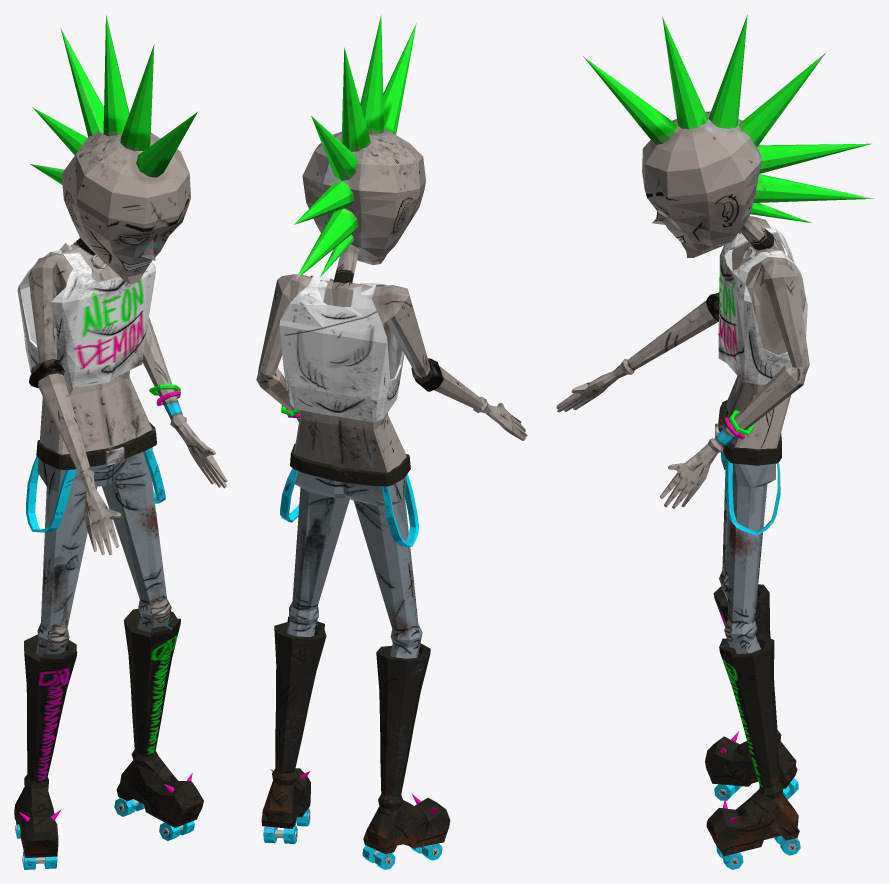
Rendered from punkAnimation_000003.obj.
3 views of the same model, side by side, from view 1: azimuth 30°, elevation 25°; view 2: azimuth 150°, elevation 25°; view 3: azimuth 270°, elevation 25° (orthographic). The views are drawn at different scales.
Visible parts, largest first — view 1: Cube.004_Cube.003; view 2: Cube.004_Cube.003; view 3: Cube.004_Cube.003.
Boxes of the visible parts, x1,y1,x2,y2 form: Cube.004_Cube.003: [14, 15, 227, 869]; Cube.004_Cube.003: [256, 15, 527, 869]; Cube.004_Cube.003: [556, 15, 874, 869].
Size of the model in its own units: 1.73 by 7.53 by 2.65.
